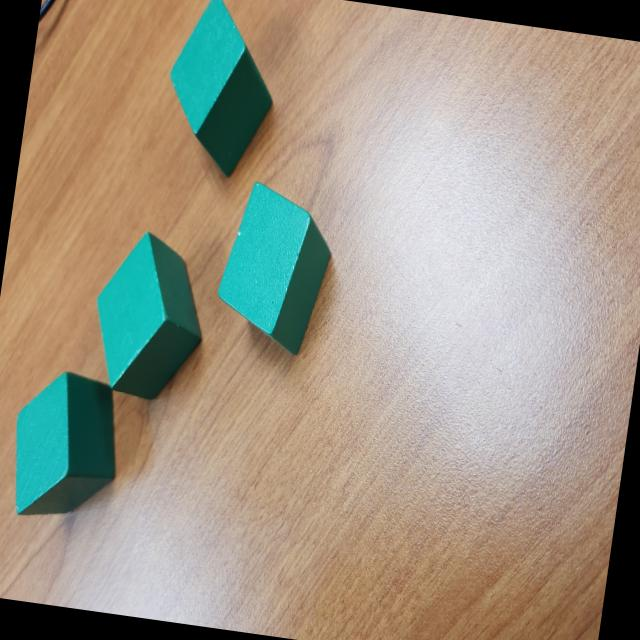green: (155, 0, 289, 182), (85, 226, 216, 409), (209, 180, 339, 358), (4, 365, 130, 529)
